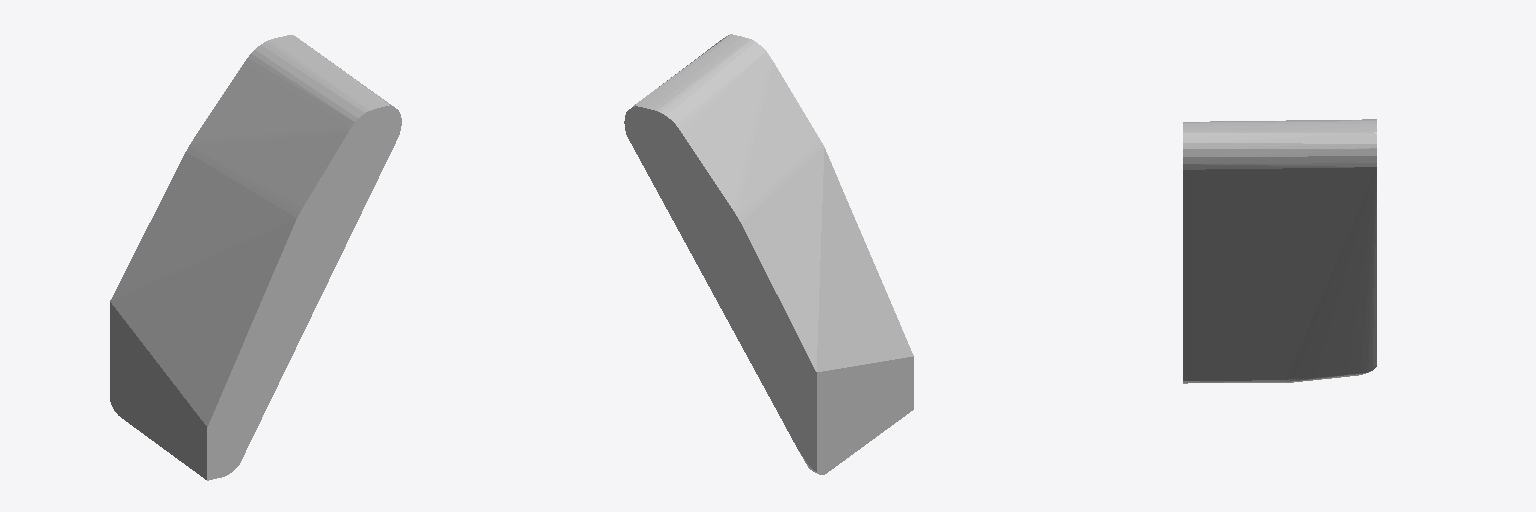
Rendered from Bowl_21_collision_4.obj.
The picture shows the model from 3 angles: view 1: azimuth 30°, elevation 25°; view 2: azimuth 150°, elevation 25°; view 3: azimuth 270°, elevation 25°; orthographic projection.
Size of the model in its own units: 0.0668 by 0.1087 by 0.0579.